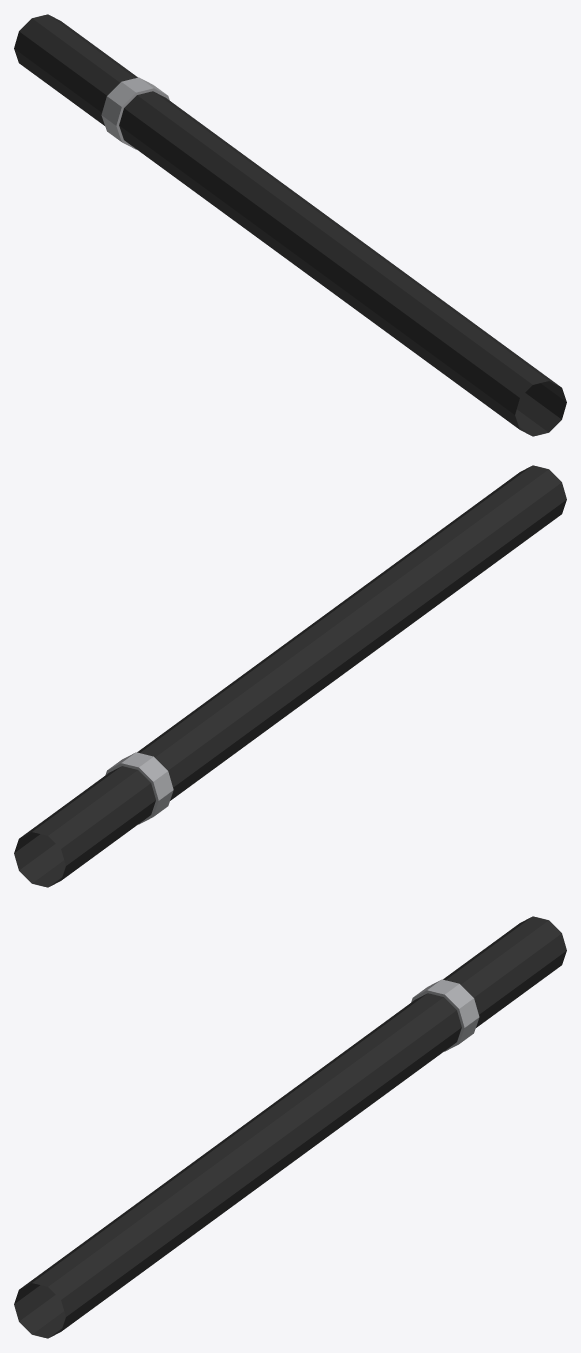
File: SmallPipe01T3.fbx
The picture shows the model from 3 angles, top to bottom: view 1: azimuth 30°, elevation 25°; view 2: azimuth 150°, elevation 25°; view 3: azimuth 330°, elevation 25°; orthographic projection.
Parts seen in each view (by area): view 1: SmallPipe01T3; view 2: SmallPipe01T3; view 3: SmallPipe01T3.
Boxes of the visible parts, x1,y1,x2,y2 form: SmallPipe01T3: (14,14,566,436); SmallPipe01T3: (14,465,566,887); SmallPipe01T3: (14,916,566,1338).
Size of the model in its own units: 15.68 by 14.91 by 237.
